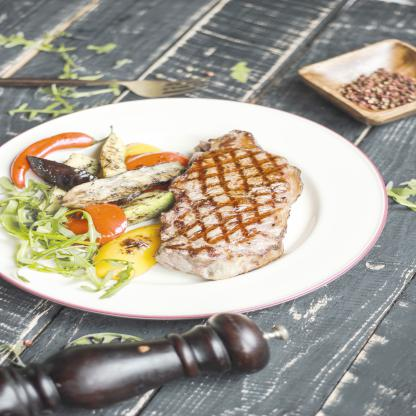Carne: (156, 128, 302, 276)
